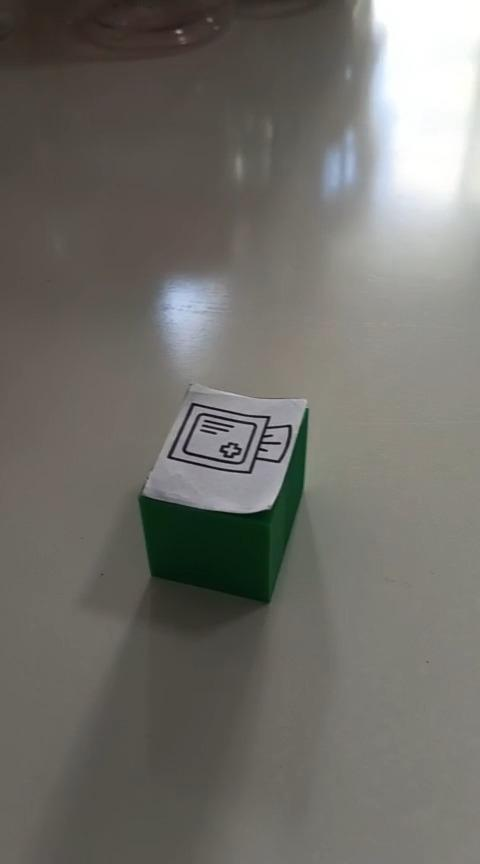Gauze: (137, 381, 309, 603)
